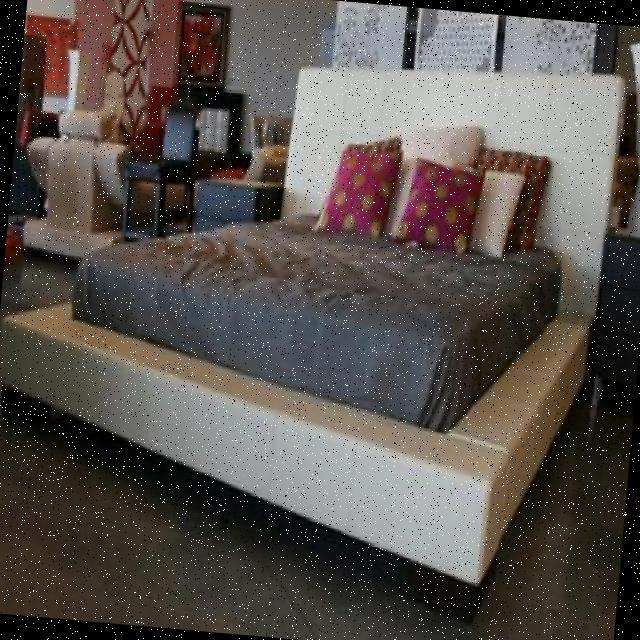Bed: (0, 8, 637, 640)
